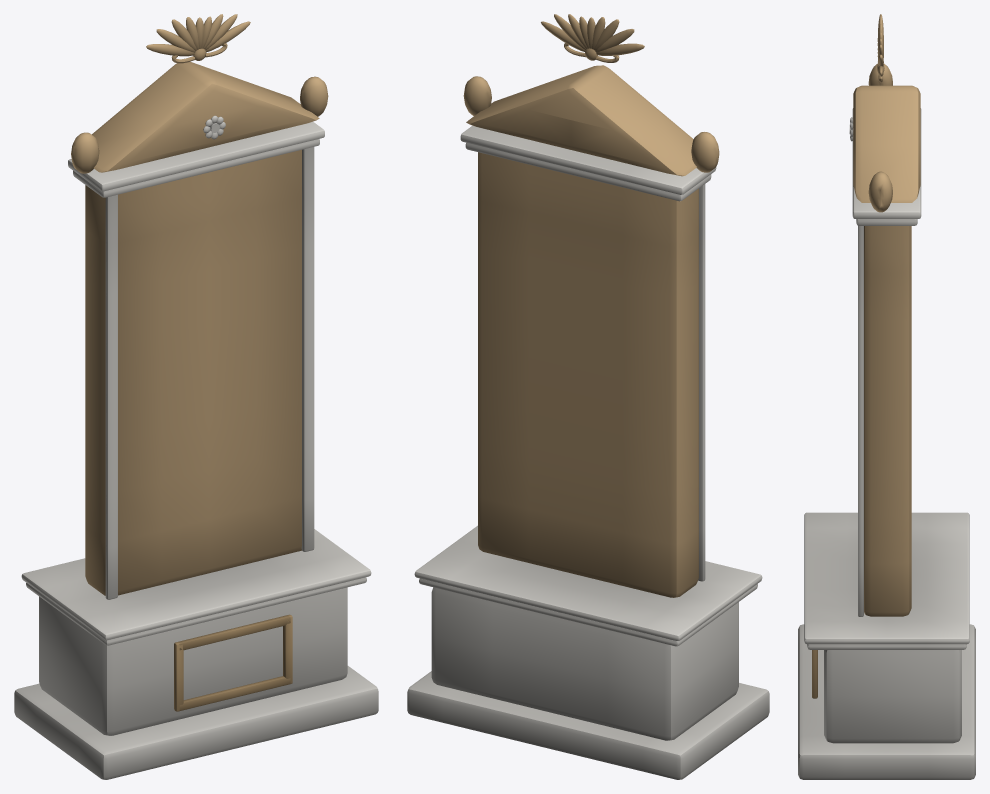
The model's file is obj_kit_stelekey.glb.
The picture shows the model from 3 angles, left to right: view 1: azimuth 30°, elevation 25°; view 2: azimuth 150°, elevation 25°; view 3: azimuth 270°, elevation 25°; orthographic projection. The views are drawn at different scales.
Parts seen in each view (by area): view 1: Cube.008, Cube.001, Cube, Cube.007, ped, Cube.010, Cube.009, Cube.012, Cube.006, Cube.011, Cube.003, Cube.002 (+3 smaller); view 2: Cube.008, Cube.001, Cube, Cube.007, ped, Cube.012, Cube.009, Cube.006, Cube.011, Sphere, Sphere.001; view 3: Cube.008, Cube.007, Cube.001, Cube, ped, Cube.010, Cube.012, Cube.006, Sphere.001, Cube.011, Sphere.
Part boxes in pixels (x1=…): Cube.008: x1=85, y1=150, x2=301, y2=595; Cube.001: x1=39, y1=587, x2=347, y2=735; Cube: x1=14, y1=666, x2=378, y2=779; Cube.007: x1=21, y1=529, x2=371, y2=640; ped: x1=92, y1=61, x2=319, y2=172; Cube.010: x1=301, y1=147, x2=314, y2=551; Cube.009: x1=105, y1=194, x2=117, y2=599; Cube.012: x1=68, y1=121, x2=324, y2=191; Cube.006: x1=26, y1=577, x2=366, y2=645; Cube.011: x1=73, y1=139, x2=319, y2=197; Cube.003: x1=178, y1=615, x2=290, y2=650; Cube.002: x1=179, y1=676, x2=290, y2=711; Cube.008: x1=478, y1=152, x2=698, y2=597; Cube.001: x1=431, y1=587, x2=738, y2=740; Cube: x1=407, y1=671, x2=769, y2=779; Cube.007: x1=414, y1=525, x2=762, y2=640; ped: x1=466, y1=65, x2=696, y2=176; Cube.012: x1=460, y1=125, x2=716, y2=194; Cube.009: x1=698, y1=184, x2=705, y2=581; Cube.006: x1=419, y1=578, x2=757, y2=646; Cube.011: x1=465, y1=142, x2=711, y2=201; Sphere: x1=691, y1=132, x2=719, y2=172; Sphere.001: x1=463, y1=76, x2=491, y2=115; Cube.008: x1=864, y1=226, x2=911, y2=616; Cube.007: x1=804, y1=512, x2=969, y2=644; Cube.001: x1=824, y1=650, x2=961, y2=743; Cube: x1=798, y1=624, x2=975, y2=779; ped: x1=853, y1=85, x2=920, y2=202; Cube.010: x1=858, y1=225, x2=863, y2=616; Cube.012: x1=852, y1=108, x2=921, y2=218; Cube.006: x1=807, y1=644, x2=966, y2=649; Sphere.001: x1=868, y1=171, x2=892, y2=212; Cube.011: x1=856, y1=219, x2=917, y2=225; Sphere: x1=868, y1=63, x2=892, y2=85.
Bounding box in the file's own units: 1.02 × 2.47 × 0.58.
